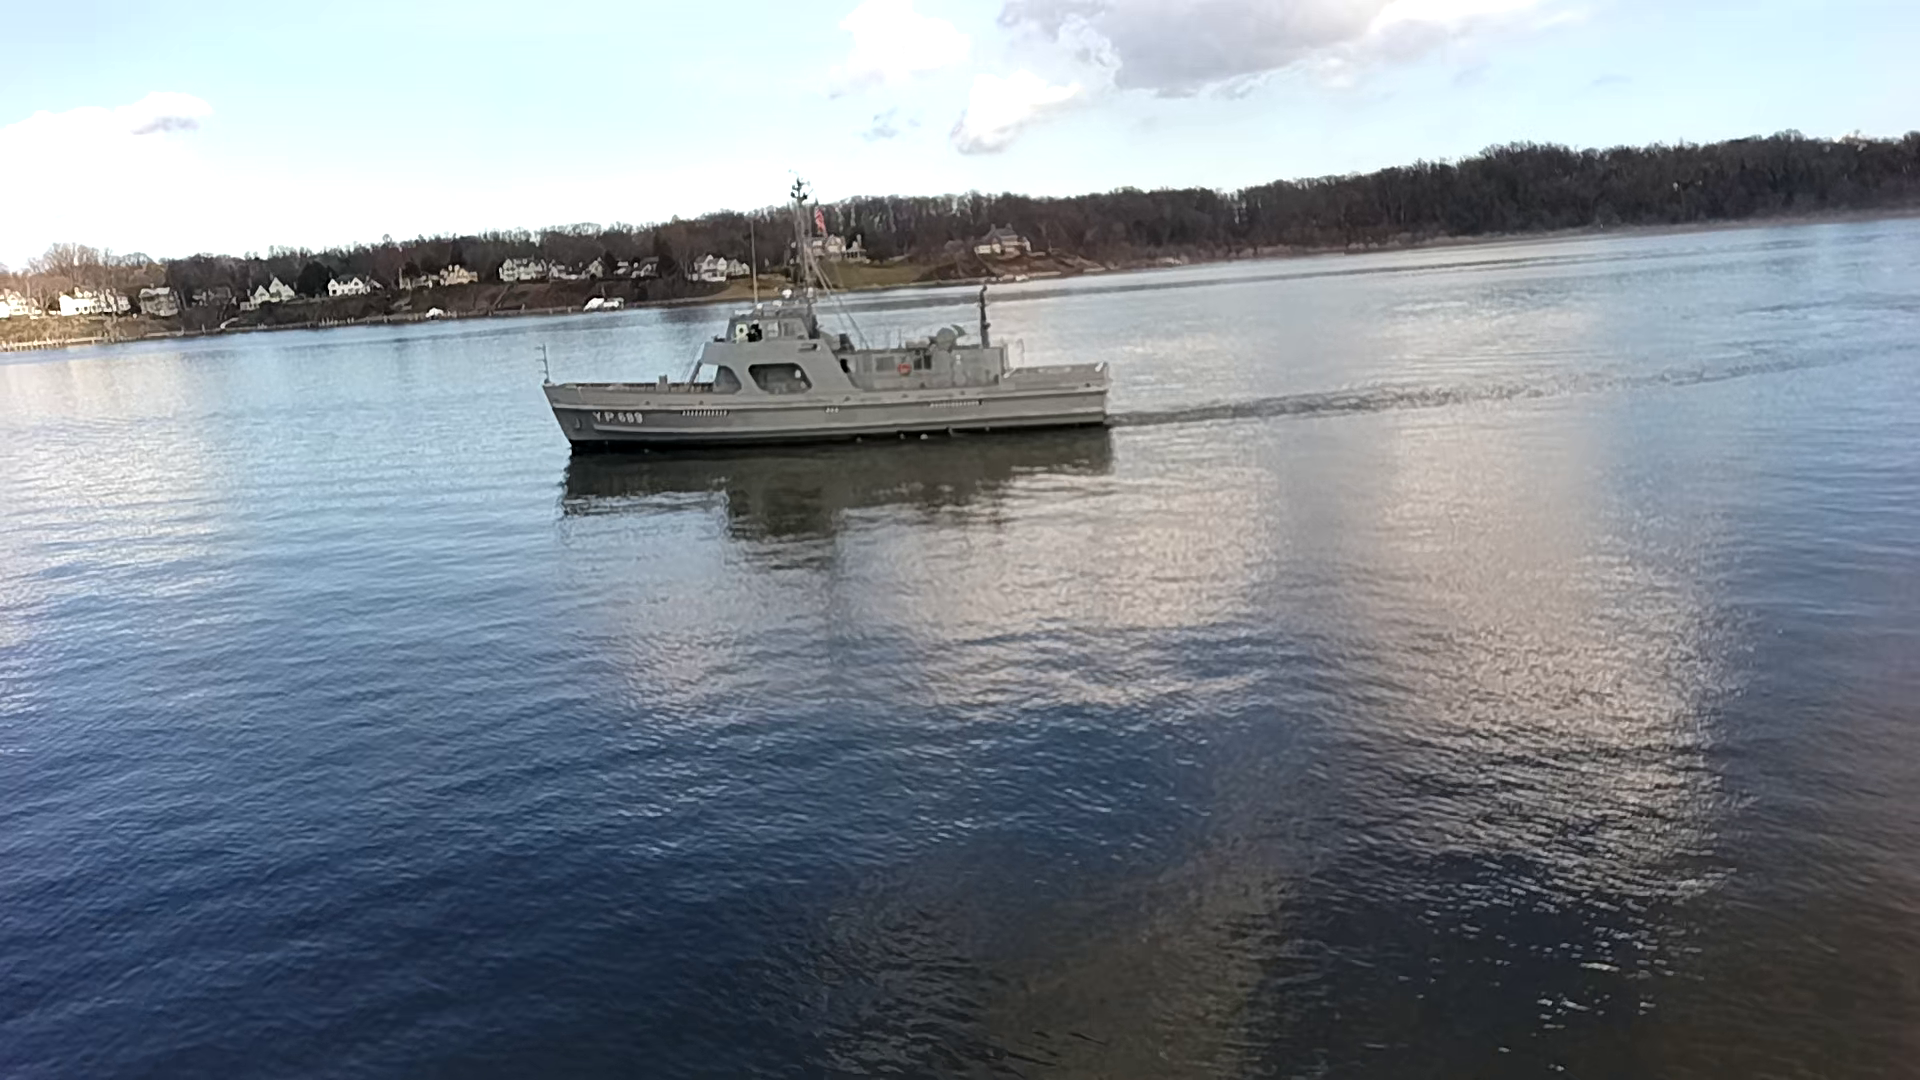YP689: (541, 179, 1113, 454)
